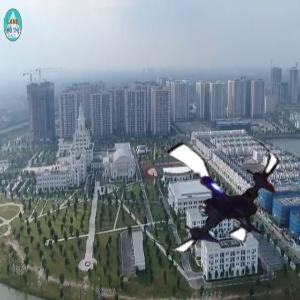drone: (139, 121, 289, 271)
